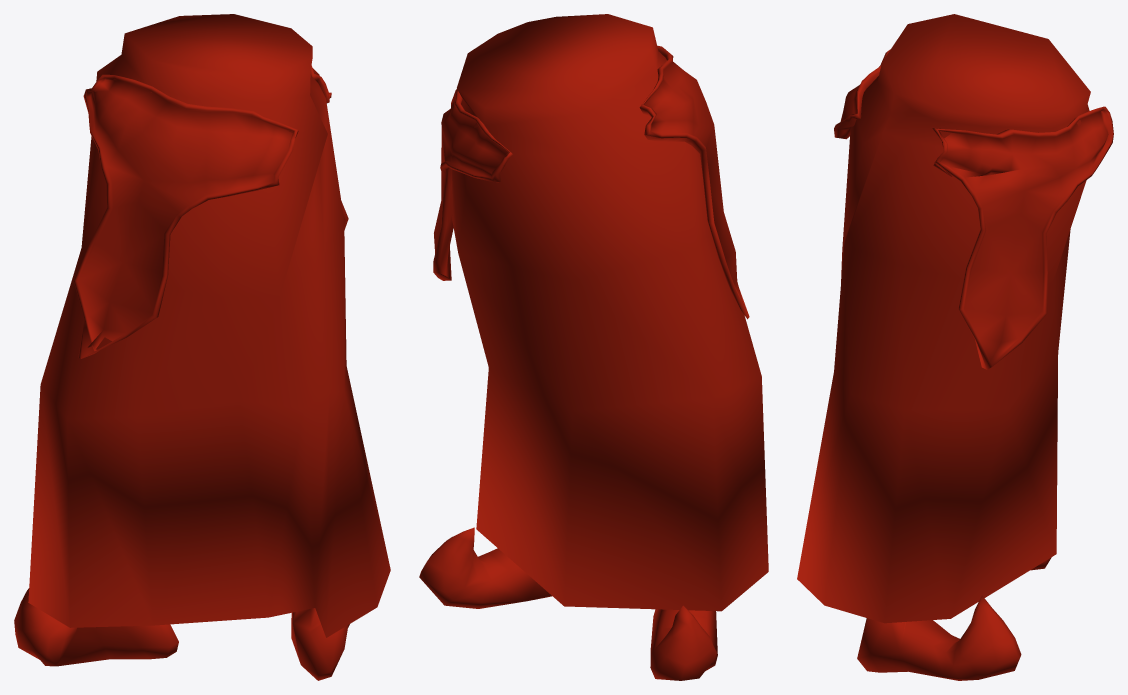
Rendered from bot_000052.obj.
The picture shows the model from 3 angles, left to right: view 1: azimuth 30°, elevation 25°; view 2: azimuth 150°, elevation 25°; view 3: azimuth 270°, elevation 25°; orthographic projection. The views are drawn at different scales.
Visible parts, largest first — view 1: LowPoly_Warlock.004_Plane.004; view 2: LowPoly_Warlock.004_Plane.004; view 3: LowPoly_Warlock.004_Plane.004.
Part boxes in pixels (<box>): LowPoly_Warlock.004_Plane.004: <box>14,14,390,680</box>; LowPoly_Warlock.004_Plane.004: <box>419,14,768,680</box>; LowPoly_Warlock.004_Plane.004: <box>797,14,1113,680</box>.
Size of the model in its own units: 0.6066 by 1.14 by 0.5489.
